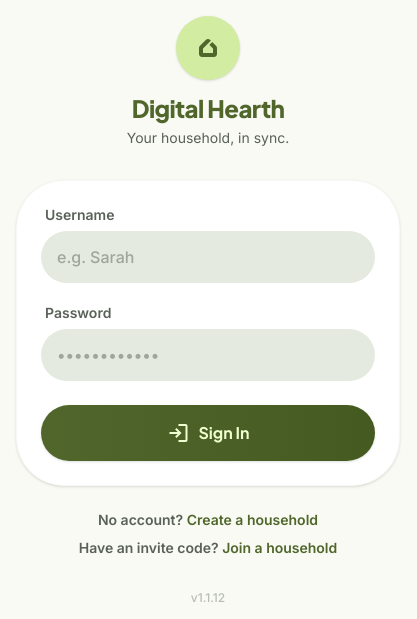
it: Login › shows loading state while login is in progress
Type "Sarah" into the field labelled "Username" at (208, 257), box [41,231,375,283]
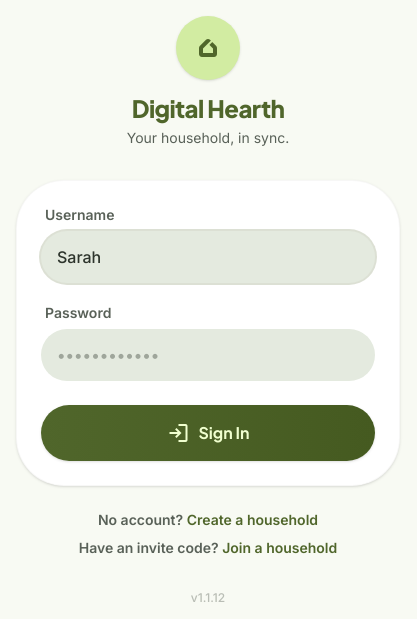
Type "TestPass1!" into the password field labelled "Password" at (208, 355), box [41,329,375,381]
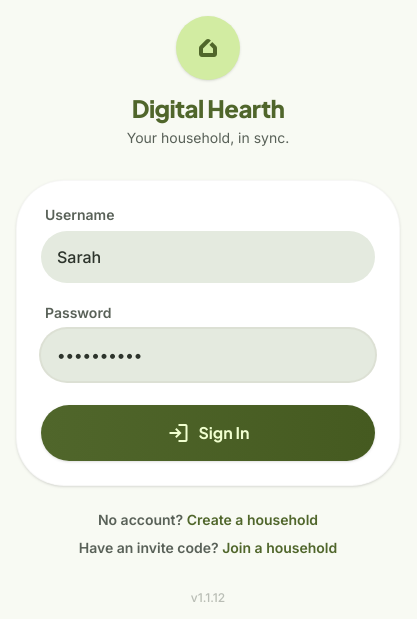
Click the button "Sign In" at (208, 433), box [41,405,375,461]
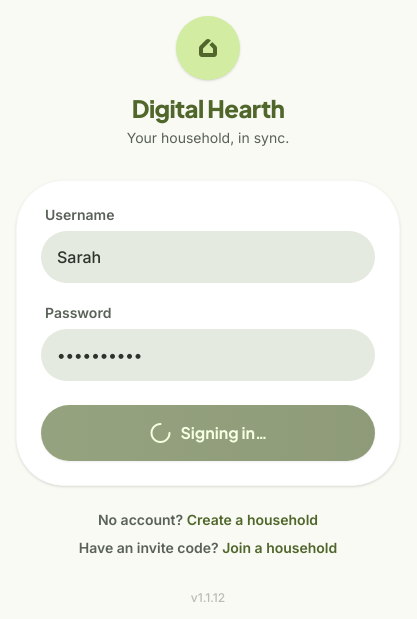
Expected: the button "Signing in…" is disabled, [41,405,375,461]
